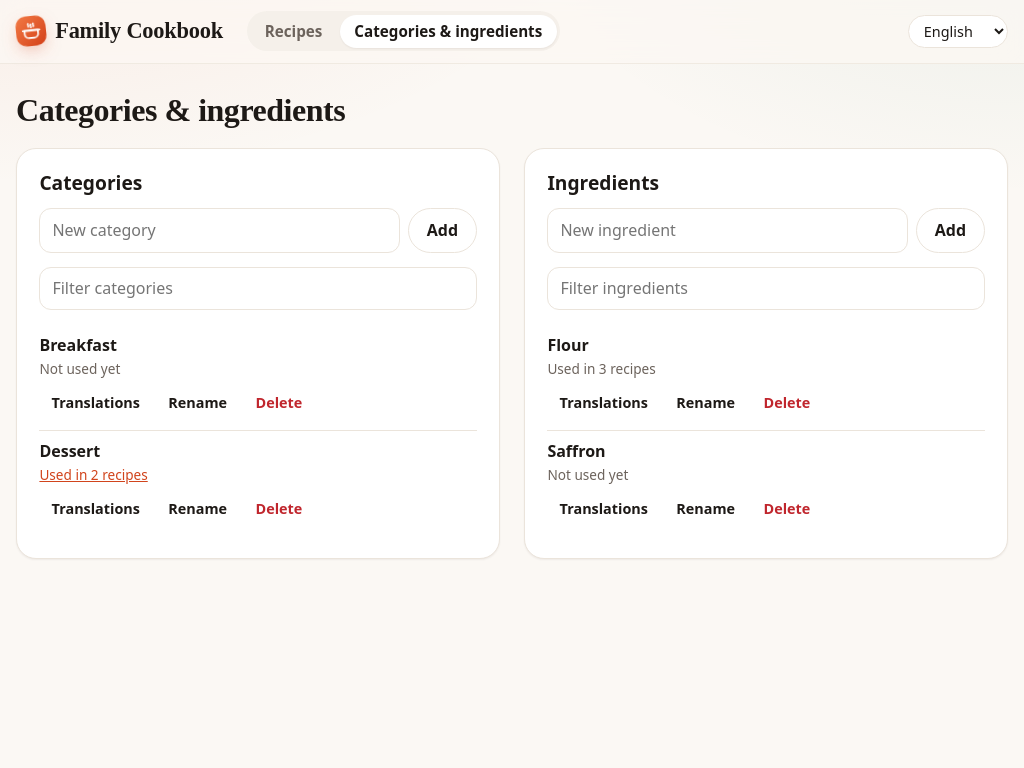
Test case: Categories & ingredients page › clears a rename error once the rename succeeds
Expected: the text "Saffron" is shown, [547,440,606,462]
Click the button "Rename" below "Saffron" at (706, 509), box [664,492,747,527]
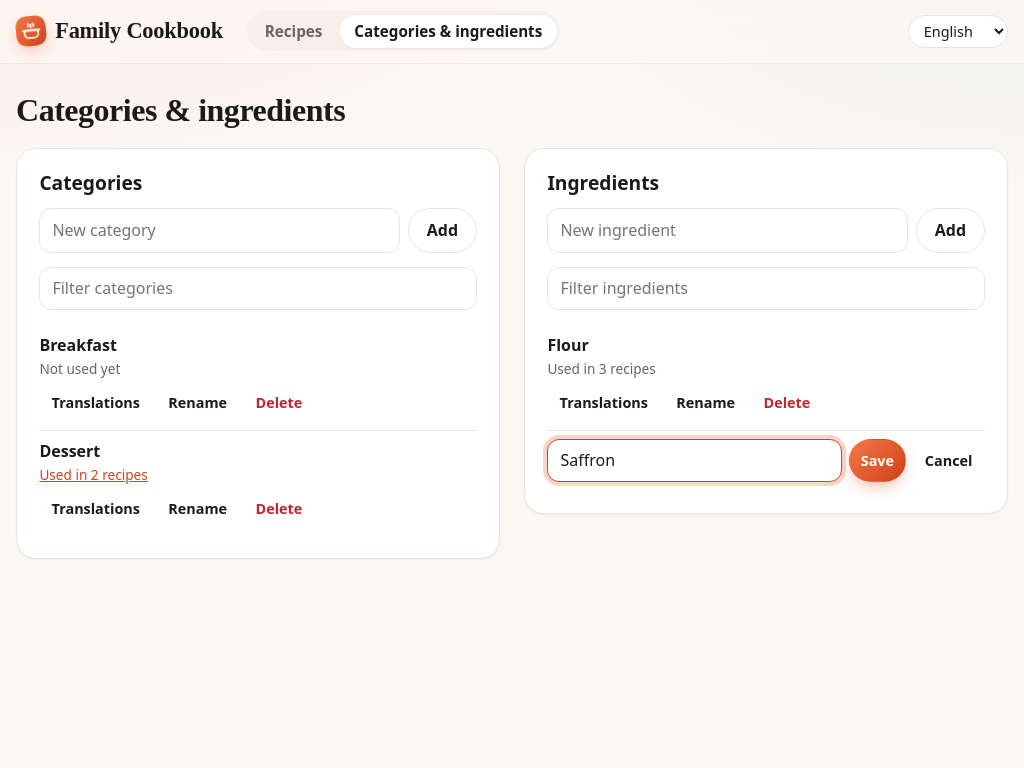
Replace the text in the field named "New name for Saffron" with "Flour" at (695, 461), box [547,439,842,482]
Then press Enter
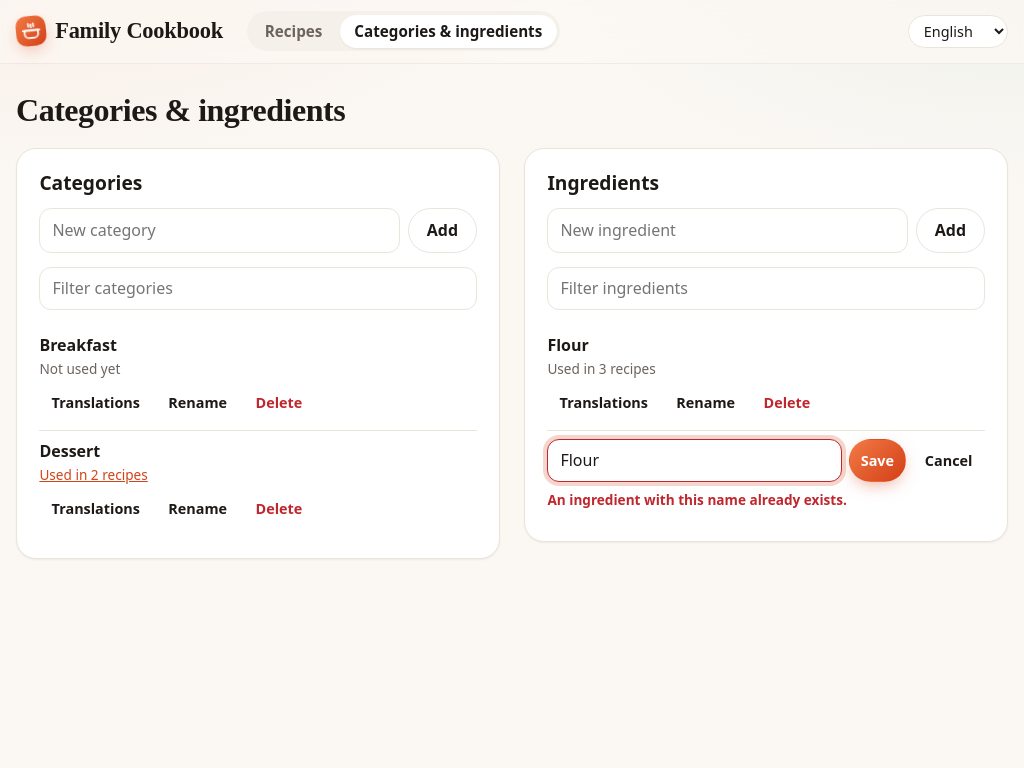
Expected: the text "An ingredient with this name already exists." is shown, [547,490,847,508]
Replace the text in the field named "New name for Saffron" with "Saffron threads" at (695, 461), box [547,439,842,482]
Then press Enter
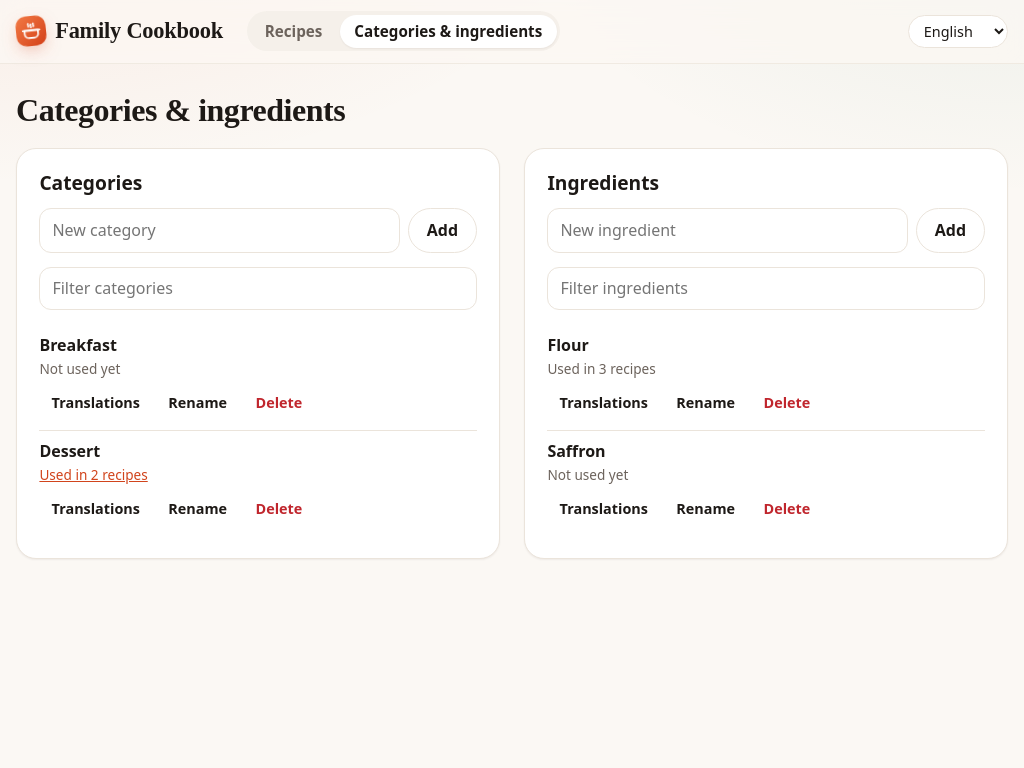
Expected: the text "An ingredient with this name already exists." is gone
